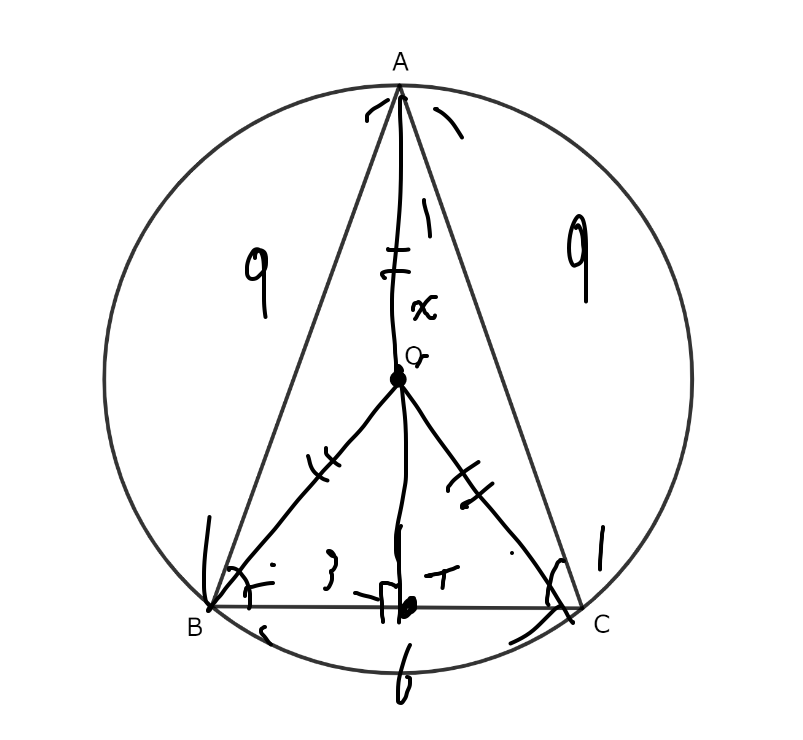Angle_Right: (374, 572, 401, 625)
Edge_Dline: (446, 455, 497, 511), (299, 446, 343, 488), (374, 240, 418, 277)
